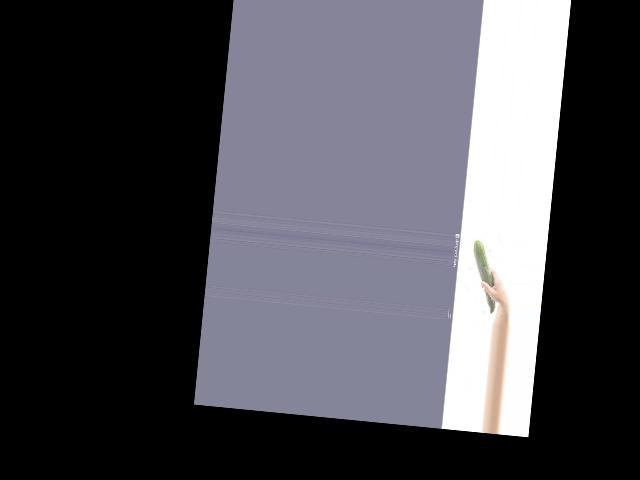cucumber: (466, 239, 502, 315)
